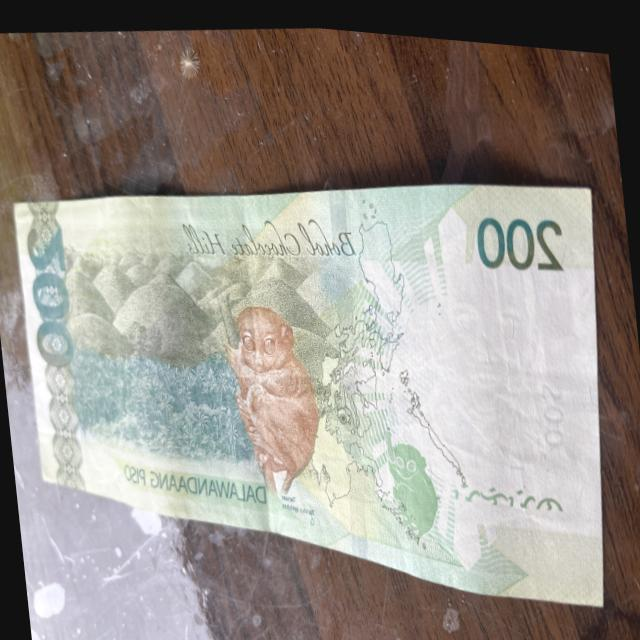200_tarsier: (206, 259, 336, 518)
200_tarsier_watermark: (368, 413, 456, 552)
value_watermark: (530, 358, 584, 461)
watermark: (422, 244, 568, 482)
